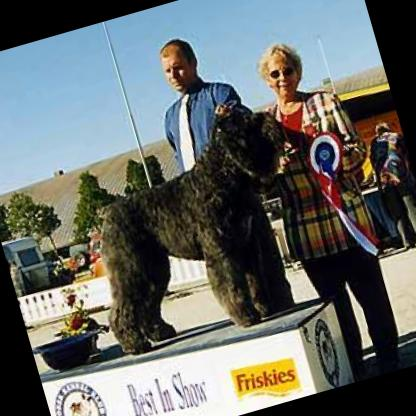Bouvier_des_Flandres: (58, 92, 324, 362)
